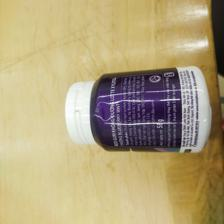Xylitol_BTS: (63, 64, 212, 155)
